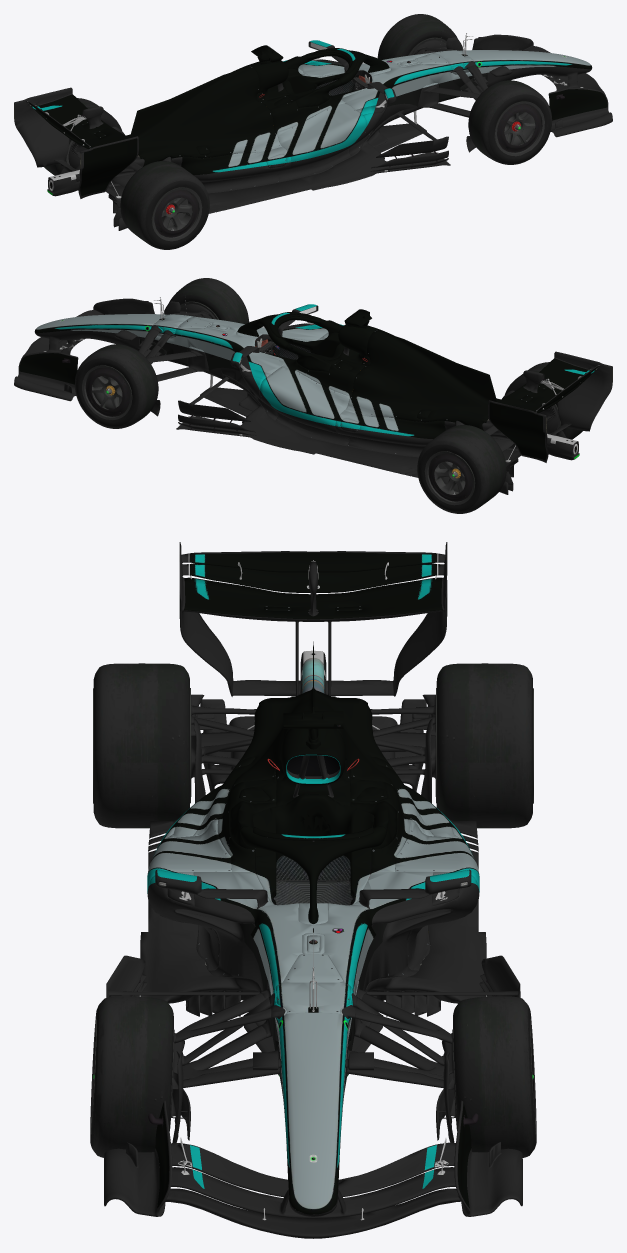
File: mercedes.glb
3 renders of one model, top to bottom at view 1: azimuth 30°, elevation 25°; view 2: azimuth 150°, elevation 25°; view 3: azimuth 270°, elevation 25°, orthographic. The views are drawn at different scales.
Visible parts, largest first — view 1: Object_12, Object_6, Object_18, Object_8, Object_15, Object_13, Object_17, Object_7, Object_22, Object_4; view 2: Object_12, Object_6, Object_18, Object_8, Object_15, Object_17, Object_13, Object_7, Object_22, Object_4; view 3: Object_12, Object_18, Object_6, Object_8, Object_13, Object_4, Object_7, Object_17, Object_22, Object_15.
Part boxes in pixels (bbox=[...]): Object_12: bbox=[28, 40, 607, 196]; Object_6: bbox=[14, 46, 488, 227]; Object_18: bbox=[44, 14, 552, 249]; Object_8: bbox=[25, 34, 612, 230]; Object_15: bbox=[66, 37, 544, 241]; Object_13: bbox=[284, 48, 389, 107]; Object_17: bbox=[60, 31, 550, 170]; Object_7: bbox=[27, 31, 583, 230]; Object_22: bbox=[387, 74, 487, 106]; Object_4: bbox=[183, 73, 371, 158]; Object_12: bbox=[19, 304, 598, 460]; Object_6: bbox=[138, 310, 612, 491]; Object_18: bbox=[74, 278, 582, 513]; Object_8: bbox=[14, 298, 601, 494]; Object_15: bbox=[82, 301, 560, 505]; Object_17: bbox=[76, 295, 481, 511]; Object_13: bbox=[237, 312, 342, 371]; Object_7: bbox=[43, 295, 599, 494]; Object_22: bbox=[140, 338, 239, 370]; Object_4: bbox=[255, 338, 420, 421]; Object_12: bbox=[147, 551, 479, 1214]; Object_18: bbox=[92, 663, 534, 1157]; Object_6: bbox=[106, 542, 520, 1087]; Object_8: bbox=[104, 551, 522, 1238]; Object_13: bbox=[229, 801, 397, 923]; Object_4: bbox=[205, 755, 430, 994]; Object_7: bbox=[131, 553, 495, 1220]; Object_17: bbox=[90, 674, 536, 1148]; Object_22: bbox=[239, 923, 387, 1069]; Object_15: bbox=[90, 688, 536, 1134].
Bounding box in the file's own units: 5.49 × 1.22 × 1.95.
Materials: 17 (14 with a texture image).
